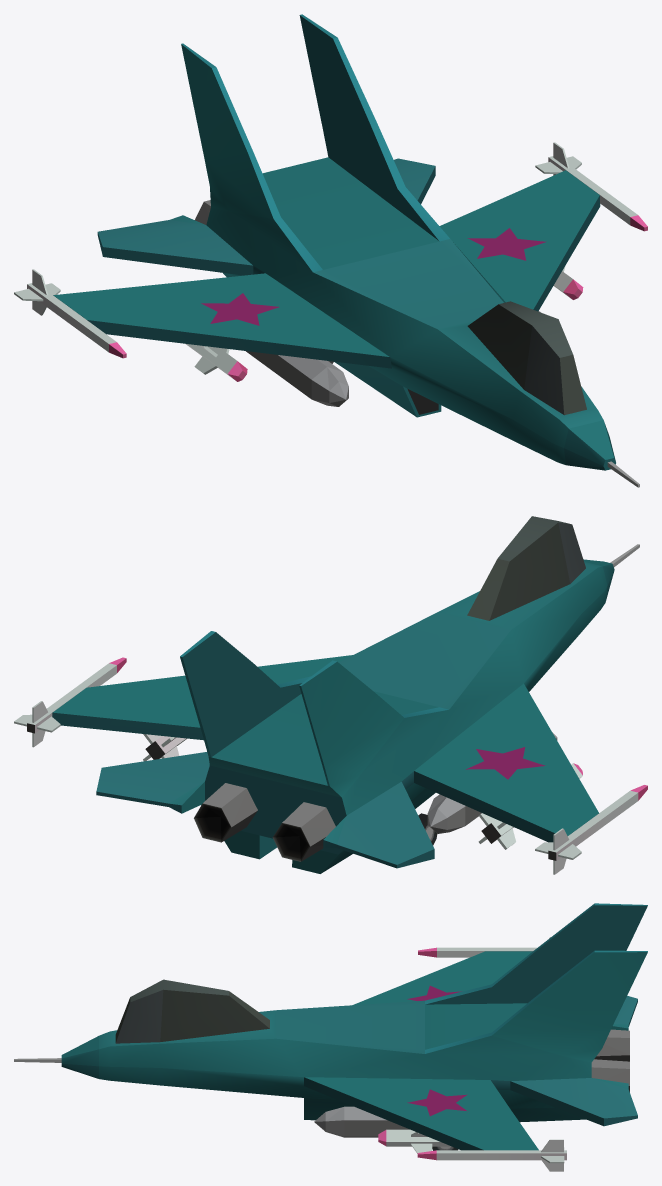
File: Fighter_Jet_Big01.fbx
The picture shows the model from 3 angles, top to bottom: view 1: azimuth 30°, elevation 25°; view 2: azimuth 150°, elevation 25°; view 3: azimuth 270°, elevation 25°; orthographic projection. The views are drawn at different scales.
Parts seen in each view (by area): view 1: Fighter_Jet_Big01; view 2: Fighter_Jet_Big01; view 3: Fighter_Jet_Big01.
Part boxes in pixels (bbox=[...]): Fighter_Jet_Big01: bbox=[14, 14, 647, 487]; Fighter_Jet_Big01: bbox=[14, 516, 647, 874]; Fighter_Jet_Big01: bbox=[14, 903, 647, 1171].
Size of the model in its own units: 18.47 by 8.13 by 22.78.
